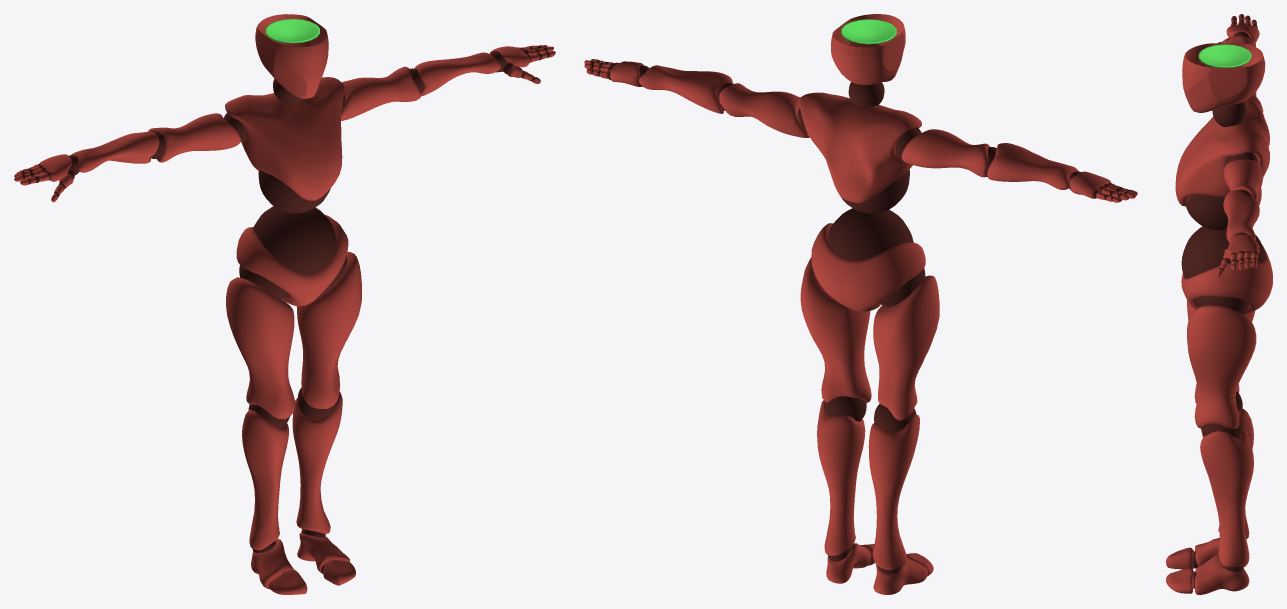
File: xbot_lobotomized.obj
The picture shows the model from 3 angles, left to right: view 1: azimuth 30°, elevation 25°; view 2: azimuth 150°, elevation 25°; view 3: azimuth 270°, elevation 25°; orthographic projection. The views are drawn at different scales.
Visible parts, largest first — view 1: Beta_Surface, Beta_Joints, Cylinder001; view 2: Beta_Surface, Beta_Joints, Cylinder001; view 3: Beta_Surface, Beta_Joints, Cylinder001.
Part boxes in pixels (box(x1,y1,x2,y2)): Beta_Surface: box(14, 14, 555, 594); Beta_Joints: box(21, 45, 549, 573); Cylinder001: box(265, 18, 319, 43); Beta_Surface: box(584, 14, 1137, 594); Beta_Joints: box(590, 60, 1130, 574); Cylinder001: box(841, 19, 896, 44); Beta_Surface: box(1166, 14, 1272, 594); Beta_Joints: box(1181, 16, 1265, 588); Cylinder001: box(1198, 44, 1251, 67).
Bounding box in the file's own units: 71.07 × 68.08 × 12.63.
